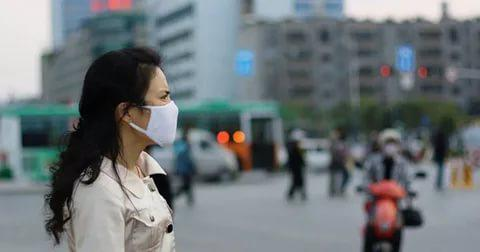mask: (125, 66, 182, 151)
